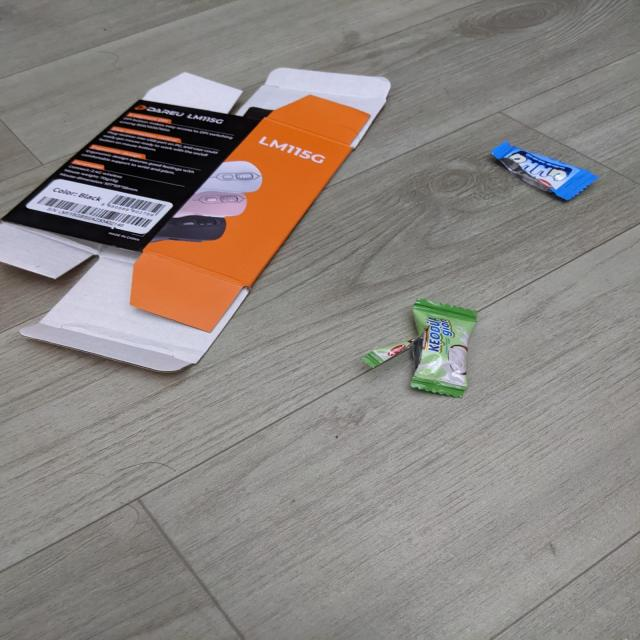cardboard box: (0, 66, 391, 374)
packet: (361, 297, 478, 400), (490, 140, 602, 202)
